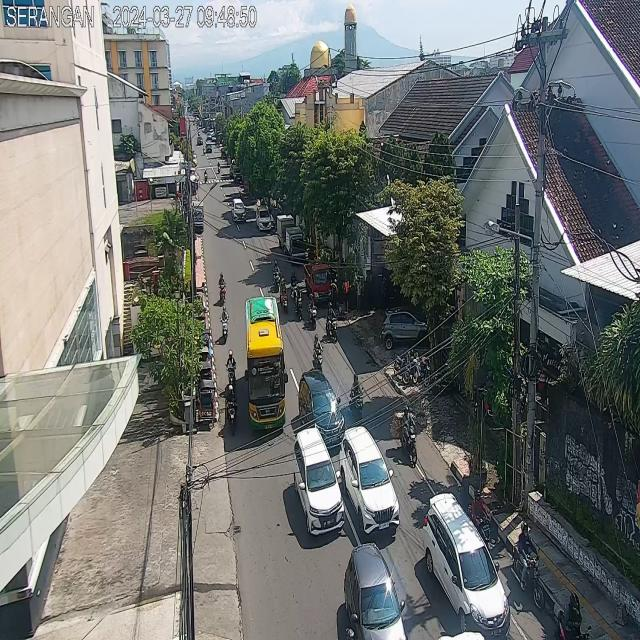bus: (244, 297, 286, 432)
car: (424, 492, 510, 640), (341, 426, 400, 535), (345, 541, 406, 640), (292, 426, 345, 539), (298, 370, 346, 449), (256, 204, 271, 233), (232, 198, 246, 224), (217, 162, 220, 174)
motorcycle: (510, 520, 546, 610), (554, 589, 590, 640), (467, 488, 493, 558), (391, 405, 418, 468), (348, 371, 363, 422), (225, 384, 239, 438), (311, 333, 326, 376), (226, 350, 239, 387), (219, 304, 230, 345), (326, 302, 337, 343), (280, 277, 289, 316), (218, 270, 227, 306), (295, 286, 303, 322), (308, 294, 316, 329), (272, 259, 280, 293), (291, 271, 299, 301), (203, 168, 208, 183)
truck: (305, 259, 333, 305), (286, 227, 307, 266), (277, 214, 294, 251)
